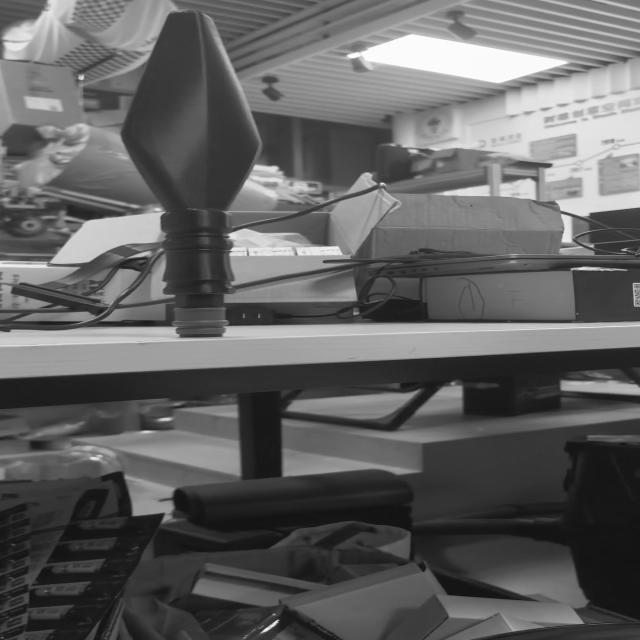base: (173, 308, 230, 337)
